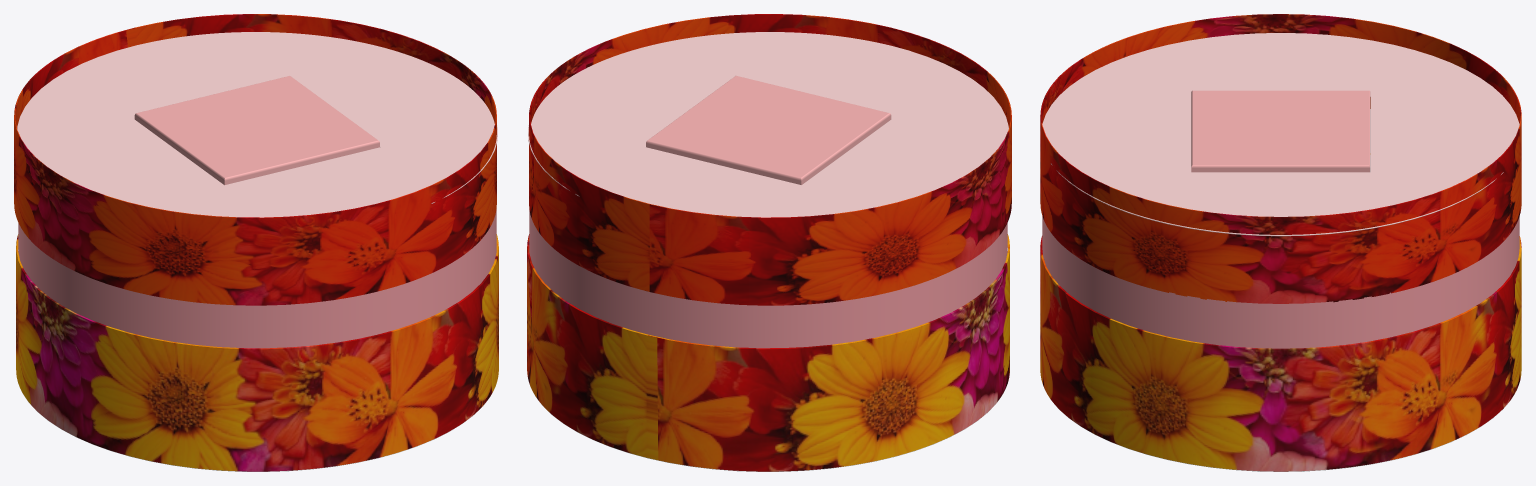
The picture shows the model from 3 angles, left to right: view 1: azimuth 30°, elevation 25°; view 2: azimuth 150°, elevation 25°; view 3: azimuth 270°, elevation 25°; orthographic projection.
Visible parts, largest first — view 1: below, lid, up, middle, box; view 2: below, lid, up, middle, box; view 3: below, lid, up, middle, box.
Boxes of the visible parts, left/top/right/bottom form: below: left=16, top=234, right=498, bottom=471; lid: left=17, top=32, right=497, bottom=217; up: left=14, top=14, right=496, bottom=305; middle: left=18, top=209, right=496, bottom=348; box: left=134, top=76, right=379, bottom=185; below: left=527, top=234, right=1009, bottom=471; lid: left=528, top=32, right=1008, bottom=217; up: left=529, top=14, right=1011, bottom=305; middle: left=529, top=210, right=1007, bottom=348; box: left=646, top=75, right=891, bottom=184; below: left=1040, top=236, right=1521, bottom=471; lid: left=1042, top=33, right=1519, bottom=236; up: left=1040, top=14, right=1521, bottom=303; middle: left=1042, top=216, right=1519, bottom=348; box: left=1191, top=90, right=1370, bottom=172.
Bounding box in the file's own units: 2.51 × 1.45 × 2.5.
Materials: 6 (6 with a texture image).
